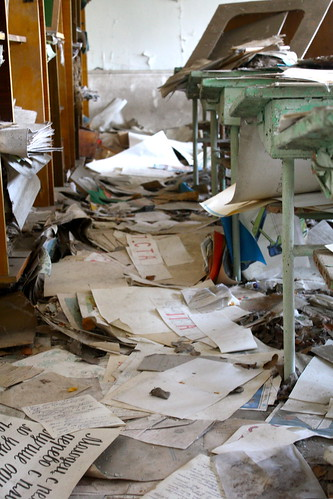trash: (1, 121, 314, 494), (1, 1, 113, 261), (168, 15, 333, 132)
